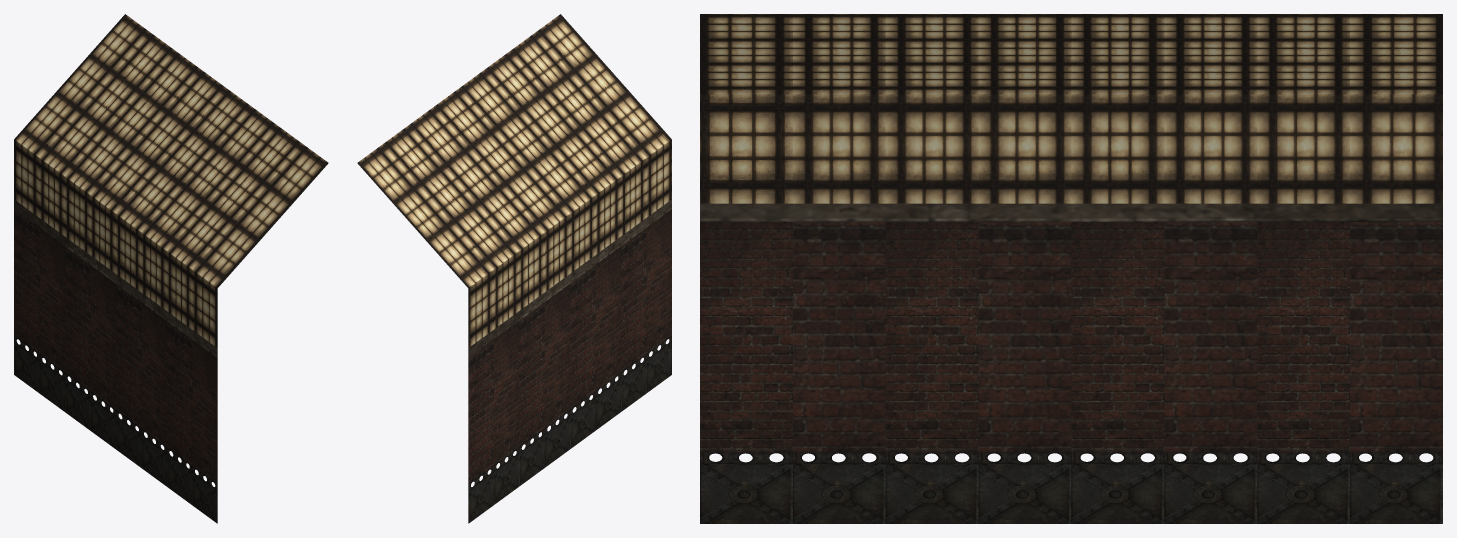
Rendered from TrainStationCeiling.fbx.
The picture shows the model from 3 angles, left to right: view 1: azimuth 30°, elevation 25°; view 2: azimuth 150°, elevation 25°; view 3: azimuth 270°, elevation 25°; orthographic projection. The views are drawn at different scales.
Parts seen in each view (by area): view 1: TrainStationCeiling; view 2: TrainStationCeiling; view 3: TrainStationCeiling.
Boxes of the visible parts, x1=… form: TrainStationCeiling: x1=14, y1=14, x2=328, y2=523; TrainStationCeiling: x1=357, y1=14, x2=671, y2=523; TrainStationCeiling: x1=700, y1=14, x2=1442, y2=523.
Bounding box in the file's own units: 1.98 × 5.68 × 6.28.
